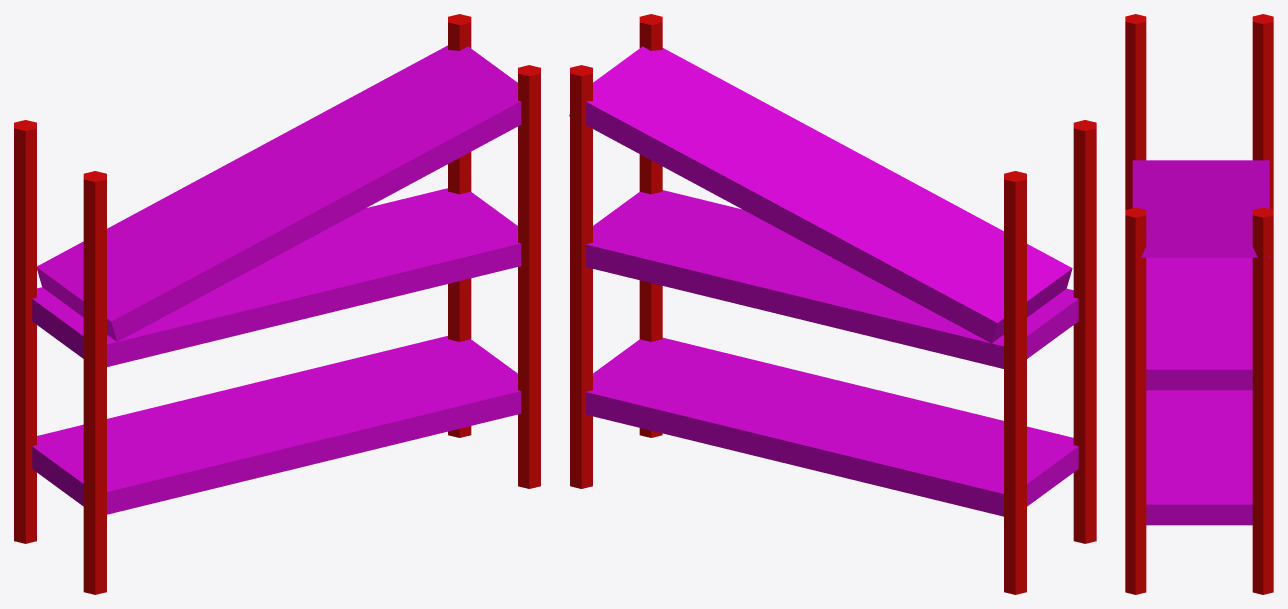
Rendered from Estanteria.fbx.
3 views of the same model, side by side, from view 1: azimuth 30°, elevation 25°; view 2: azimuth 150°, elevation 25°; view 3: azimuth 270°, elevation 25° (orthographic). The views are drawn at different scales.
Parts seen in each view (by area): view 1: Estanteria; view 2: Estanteria; view 3: Estanteria.
Boxes of the visible parts, x1=… form: Estanteria: x1=14, y1=14, x2=540, y2=594; Estanteria: x1=569, y1=14, x2=1096, y2=594; Estanteria: x1=1125, y1=14, x2=1273, y2=594.
Bounding box in the file's own units: 3.52 × 3.04 × 1.08.
